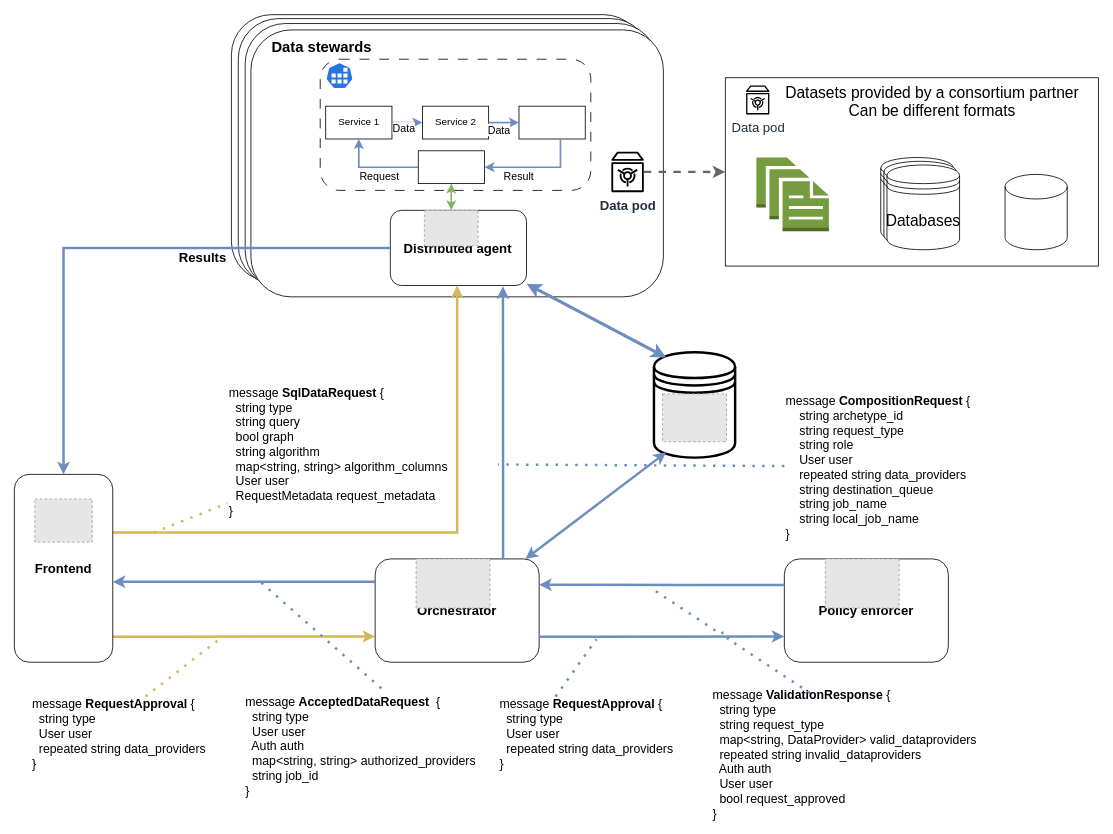
The diagram is 1113 pixels wide and 834 high, and some of its shapes have lost their labels. Grey dashed boxes stand in for pictures. Here are the shapes that lost their labels. From the top down, the centre of each, then its label:
point (551, 122): Service 3
point (451, 167): Sidecar
point (792, 194): CSV files
point (1035, 212): Other
